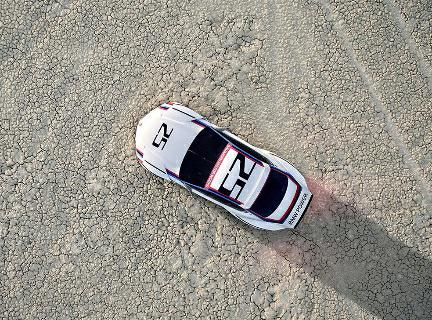宝马-30CSLHommage: (128, 97, 317, 243)
